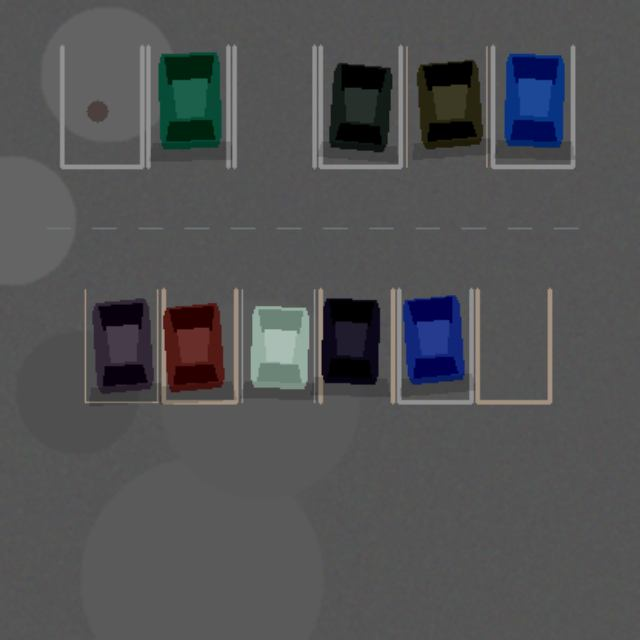space-empty: (62, 46, 142, 166), (234, 46, 314, 166), (477, 289, 549, 402)
space-occupied: (148, 46, 228, 166), (320, 46, 400, 166), (406, 46, 486, 166), (492, 46, 572, 166), (398, 289, 471, 402), (85, 289, 157, 402), (163, 289, 235, 402), (242, 289, 314, 402), (320, 289, 392, 402)
